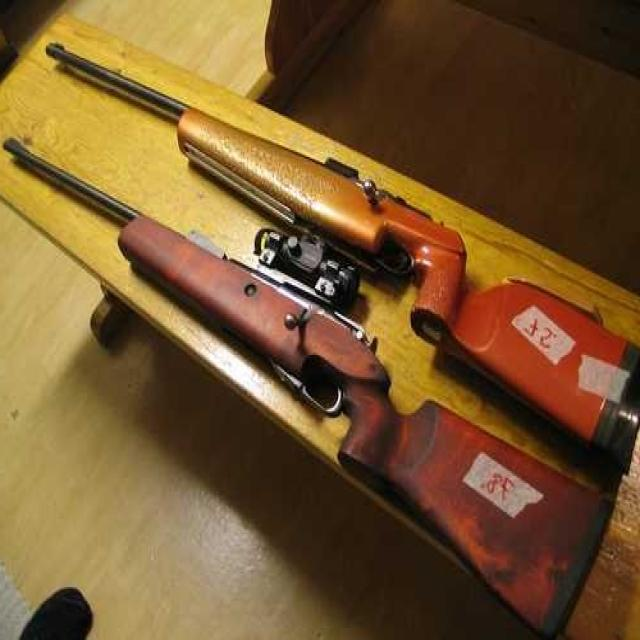heavyweapon: (3, 131, 563, 611), (29, 29, 631, 457)
